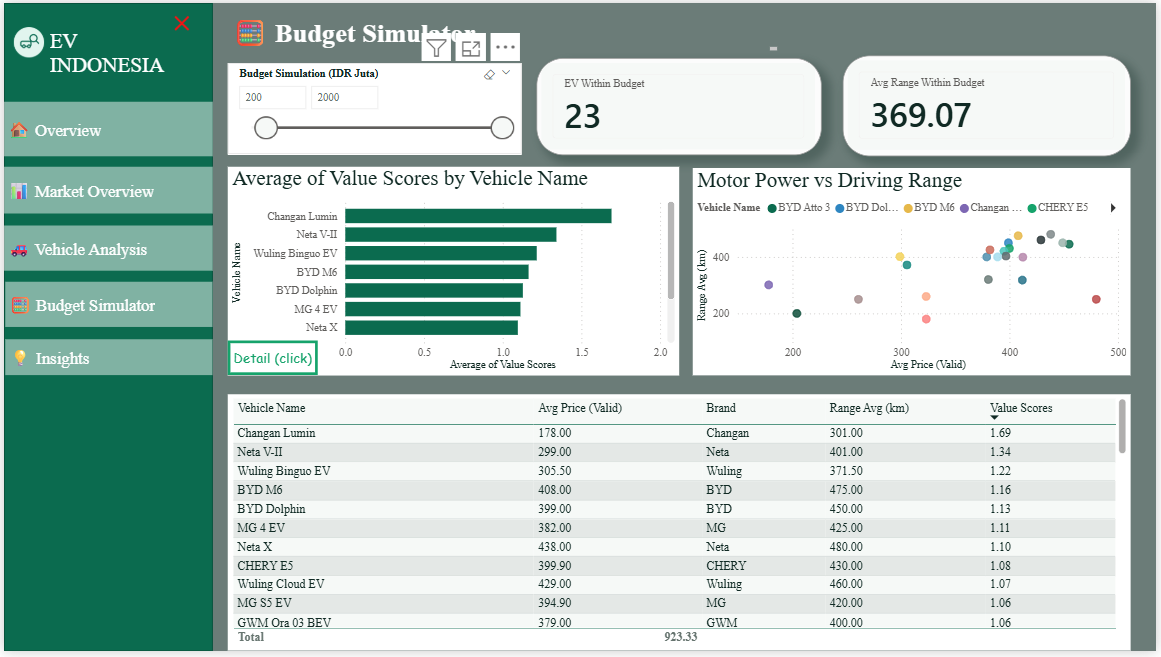

The dashboard page shown, as its layout file describes it:
{"tool":"powerbi","page":{"name":"Budget Simulation","canvas":[1280,720],"ordinal":3},"visuals":[{"type":"shape","title":"Sidebar Background","box":[0,0,232,720.4],"z":0,"group":"g1"},{"type":"textbox","title":"🧮 Budget Simulator","box":[248.3,11.7,615,46.7],"z":0},{"type":"textbox","title":"EV INDONESIA","box":[46.3,29.4,159.3,60.6],"z":1000,"group":"g1"},{"type":"cardVisual","fields":{"Data":["EV_Data.EV Within Budget"]},"box":[591.7,61.7,316.7,108.3],"z":1000},{"type":"actionButton","title":"Sidebar Close","box":[171,1.7,53.7,39.8],"z":2000,"group":"g1"},{"type":"cardVisual","fields":{"Data":["EV_Data.Avg Range Within Budget"]},"box":[931.7,58.3,320,111.7],"z":2000},{"type":"actionButton","box":[0,109.1,232,60.6],"z":3000,"group":"g1"},{"type":"clusteredBarChart","fields":{"Category":["EV_Data.Vehicle Name"],"Y":["Avg(EV_Data.Value Scores)"]},"box":[248.3,181.7,501.7,231.7],"z":3000},{"type":"actionButton","box":[0,181.8,232,51.9],"z":4000,"group":"g1"},{"type":"scatterChart","title":"Motor Power vs Driving Range","fields":{"Y":["EV_Data.Range Avg (km)"],"Series":["EV_Data.Vehicle Name"],"X":["EV_Data.Avg Price (Valid)"]},"box":[765,183.3,486.7,230],"z":4000},{"type":"actionButton","box":[0,247.6,232,50.2],"z":5000,"group":"g1"},{"type":"tableEx","fields":{"Values":["EV_Data.Vehicle Name","EV_Data.Avg Price (Valid)","EV_Data.Brand","EV_Data.Range Avg (km)","EV_Data.Value Scores"]},"box":[248.3,435,1003.3,285],"z":5000},{"type":"actionButton","box":[1.7,310,230.3,50.2],"z":6000,"group":"g1"},{"type":"actionButton","box":[248.3,375,100,38.3],"z":6000},{"type":"slicer","fields":{"Values":["Budget Simulation (IDR Juta).Budget Simulation (IDR Juta)"]},"box":[248.3,66.7,326.7,101.7],"z":7000},{"type":"actionButton","box":[1.7,374,230.3,39.8],"z":7000,"group":"g1"},{"type":"image","box":[9.6,21.4,36.3,45.7],"z":8000,"group":"g1"},{"type":"group","id":"g1","title":"SIDEBAR","box":[0,0,232,720.4],"z":9000}]}

Visuals, with their boxes on the page's 1280x720 design canvas (x1, y1, x2, y2). These are canvas units, not pixel positions in the 1161x657 screenshot, which may show the page scaled, cropped or inside an application window:
"Sidebar Background" shape: box=[0, 0, 232, 720]
"🧮 Budget Simulator" textbox: box=[248, 12, 863, 58]
"EV INDONESIA" textbox: box=[46, 29, 206, 90]
cardVisual - EV_Data.EV Within Budget: box=[592, 62, 908, 170]
"Sidebar Close" actionButton: box=[171, 2, 225, 42]
cardVisual - EV_Data.Avg Range Within Budget: box=[932, 58, 1252, 170]
actionButton: box=[0, 109, 232, 170]
clusteredBarChart - EV_Data.Vehicle Name x Avg(EV_Data.Value Scores): box=[248, 182, 750, 413]
actionButton: box=[0, 182, 232, 234]
"Motor Power vs Driving Range" scatterChart: box=[765, 183, 1252, 413]
actionButton: box=[0, 248, 232, 298]
tableEx - EV_Data.Vehicle Name x EV_Data.Avg Price (Valid): box=[248, 435, 1252, 720]
actionButton: box=[2, 310, 232, 360]
actionButton: box=[248, 375, 348, 413]
slicer - Budget Simulation (IDR Juta).Budget Simulation (IDR Juta): box=[248, 67, 575, 168]
actionButton: box=[2, 374, 232, 414]
image: box=[10, 21, 46, 67]
"SIDEBAR" group: box=[0, 0, 232, 720]
